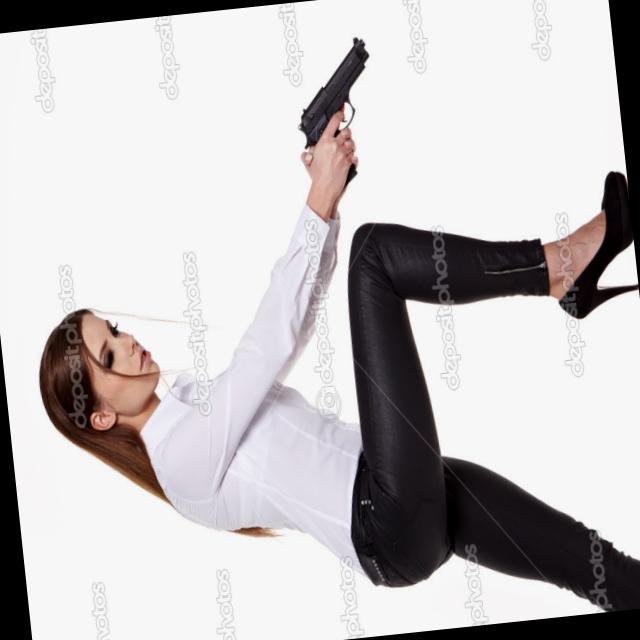handgun: (285, 29, 378, 180)
